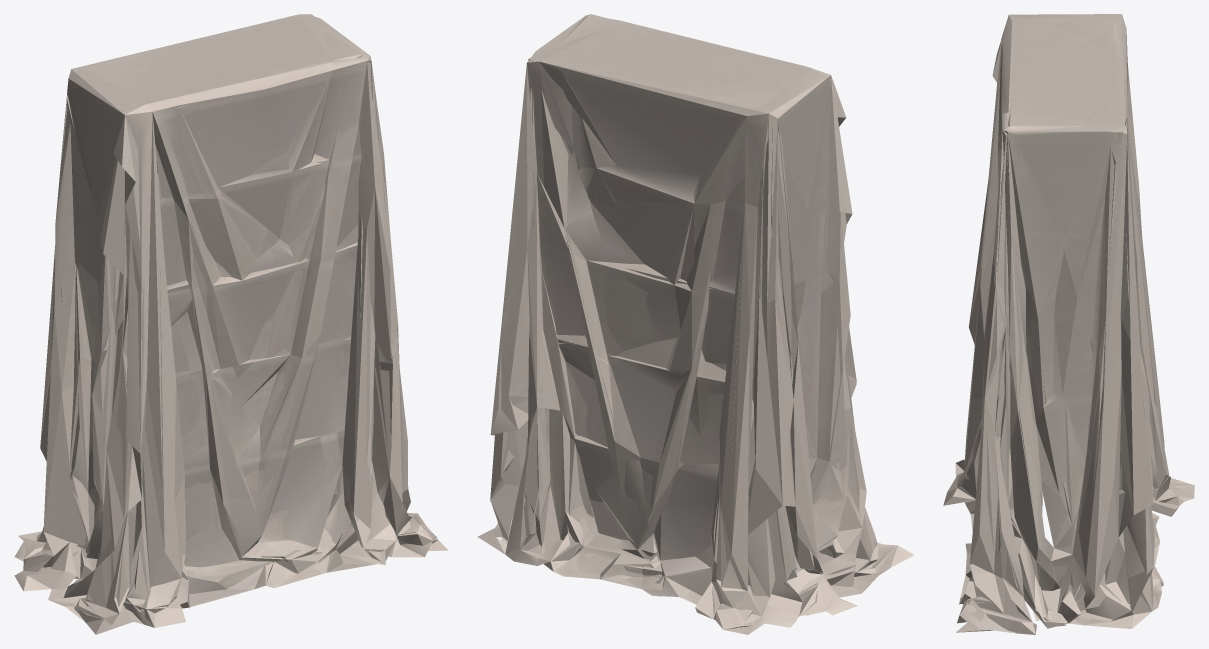
Rendered from sheetBookshelf.glb.
The picture shows the model from 3 angles, left to right: view 1: azimuth 30°, elevation 25°; view 2: azimuth 150°, elevation 25°; view 3: azimuth 270°, elevation 25°; orthographic projection. The views are drawn at different scales.
Size of the model in its own units: 1.47 by 1.9 by 0.8979.
Materials: 1 (1 with a texture image).
